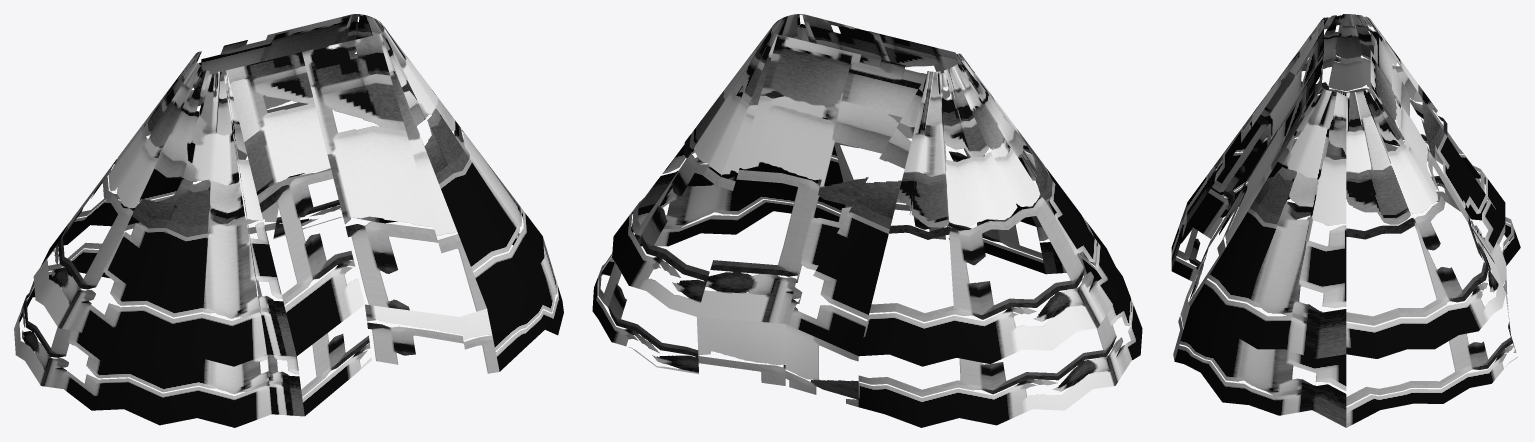
The model's file is roof_house_01_02.dae.
The picture shows the model from 3 angles, left to right: view 1: azimuth 30°, elevation 25°; view 2: azimuth 150°, elevation 25°; view 3: azimuth 270°, elevation 25°; orthographic projection. The views are drawn at different scales.
Parts seen in each view (by area): view 1: roof_house_01_02; view 2: roof_house_01_02; view 3: roof_house_01_02.
Part boxes in pixels (x1=…): roof_house_01_02: x1=14, y1=14, x2=563, y2=427; roof_house_01_02: x1=592, y1=14, x2=1142, y2=427; roof_house_01_02: x1=1171, y1=14, x2=1520, y2=427.
Size of the model in its own units: 14.48 by 9.82 by 8.23.
Materials: 1 (1 with a texture image).
